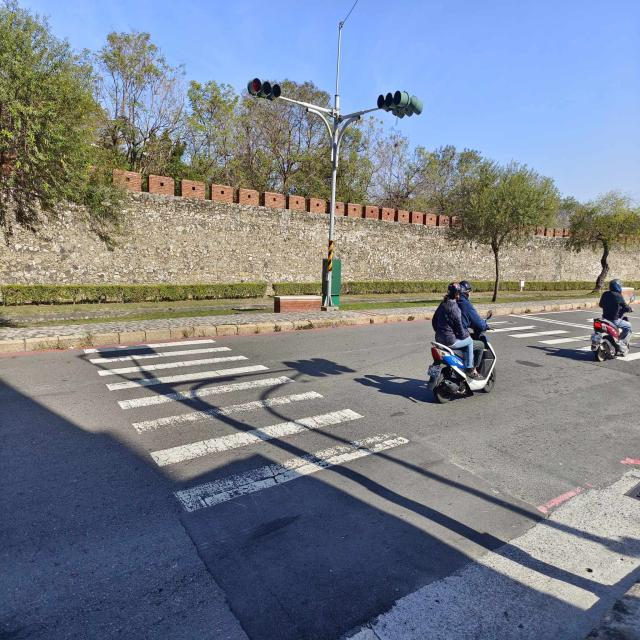zebra_crossing: (195, 152, 640, 509), (0, 90, 185, 603)
